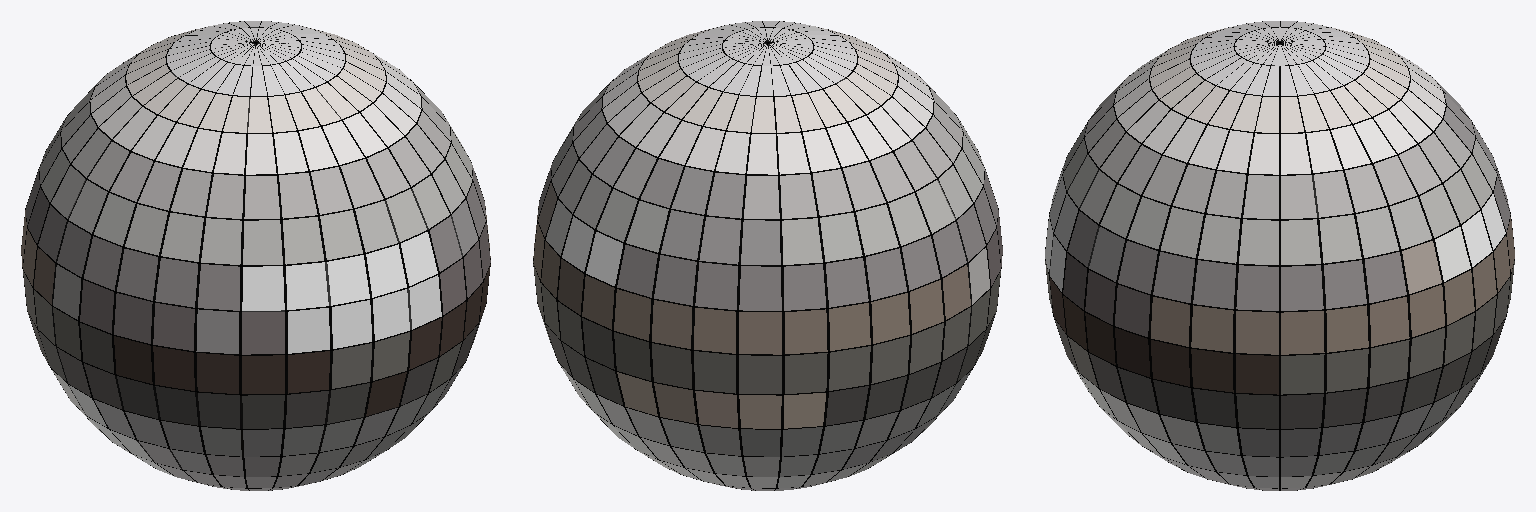
3 renders of one model, left to right at view 1: azimuth 30°, elevation 25°; view 2: azimuth 150°, elevation 25°; view 3: azimuth 270°, elevation 25°, orthographic.
Visible parts, largest first — view 1: Sphere; view 2: Sphere; view 3: Sphere.
Boxes of the visible parts, box(x1,y1,x2,y2) form: Sphere: box(21, 21, 490, 490); Sphere: box(533, 21, 1002, 490); Sphere: box(1045, 21, 1514, 490).
Size of the model in its own units: 1 by 1 by 1.
Materials: 1 (1 with a texture image).